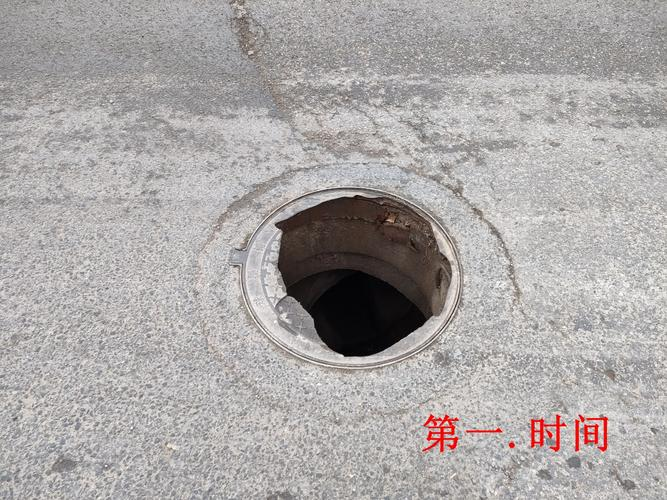broke: (195, 159, 529, 416)
